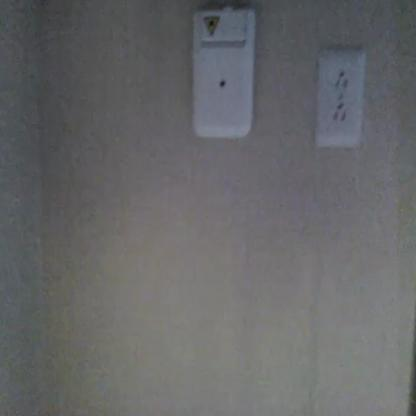OUTLET: (317, 47, 366, 147)
